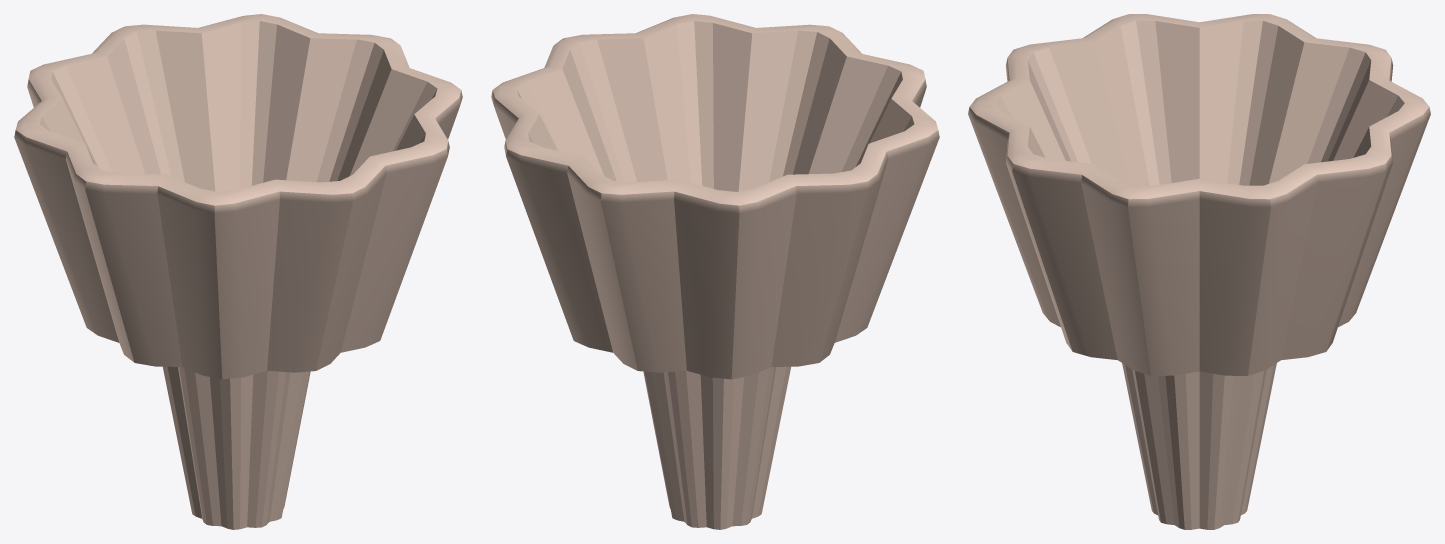
Rendered from Main pipe.fbx.
3 renders of one model, left to right at view 1: azimuth 30°, elevation 25°; view 2: azimuth 150°, elevation 25°; view 3: azimuth 270°, elevation 25°, orthographic.
Parts seen in each view (by area): view 1: Main_pipe; view 2: Main_pipe; view 3: Main_pipe.
Part boxes in pixels (bbox=[...]): Main_pipe: bbox=[14, 14, 462, 529]; Main_pipe: bbox=[491, 14, 939, 529]; Main_pipe: bbox=[968, 14, 1430, 529].
Bounding box in the file's own units: 1.8 × 1.84 × 1.89.
